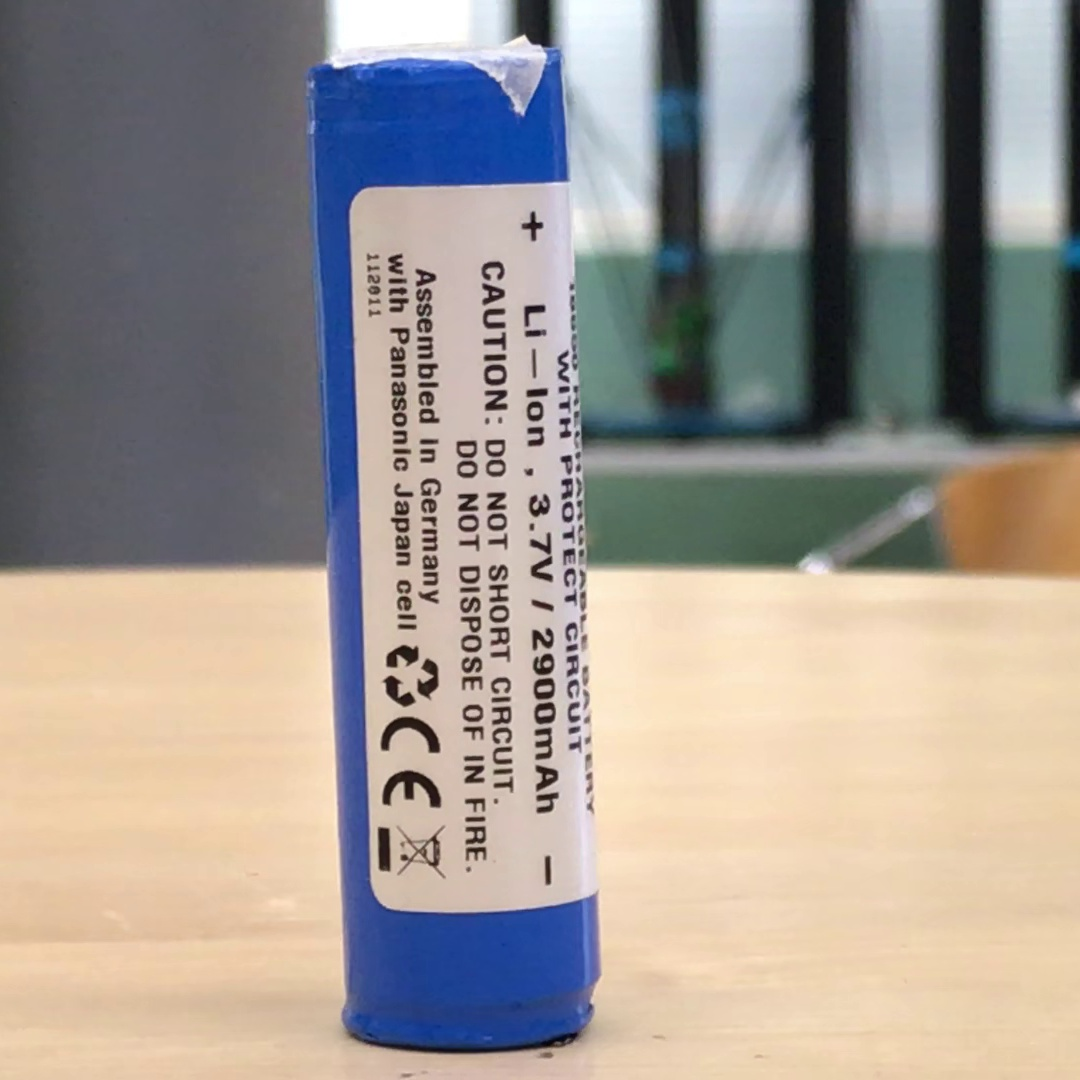keyword: (519, 484, 563, 592)
